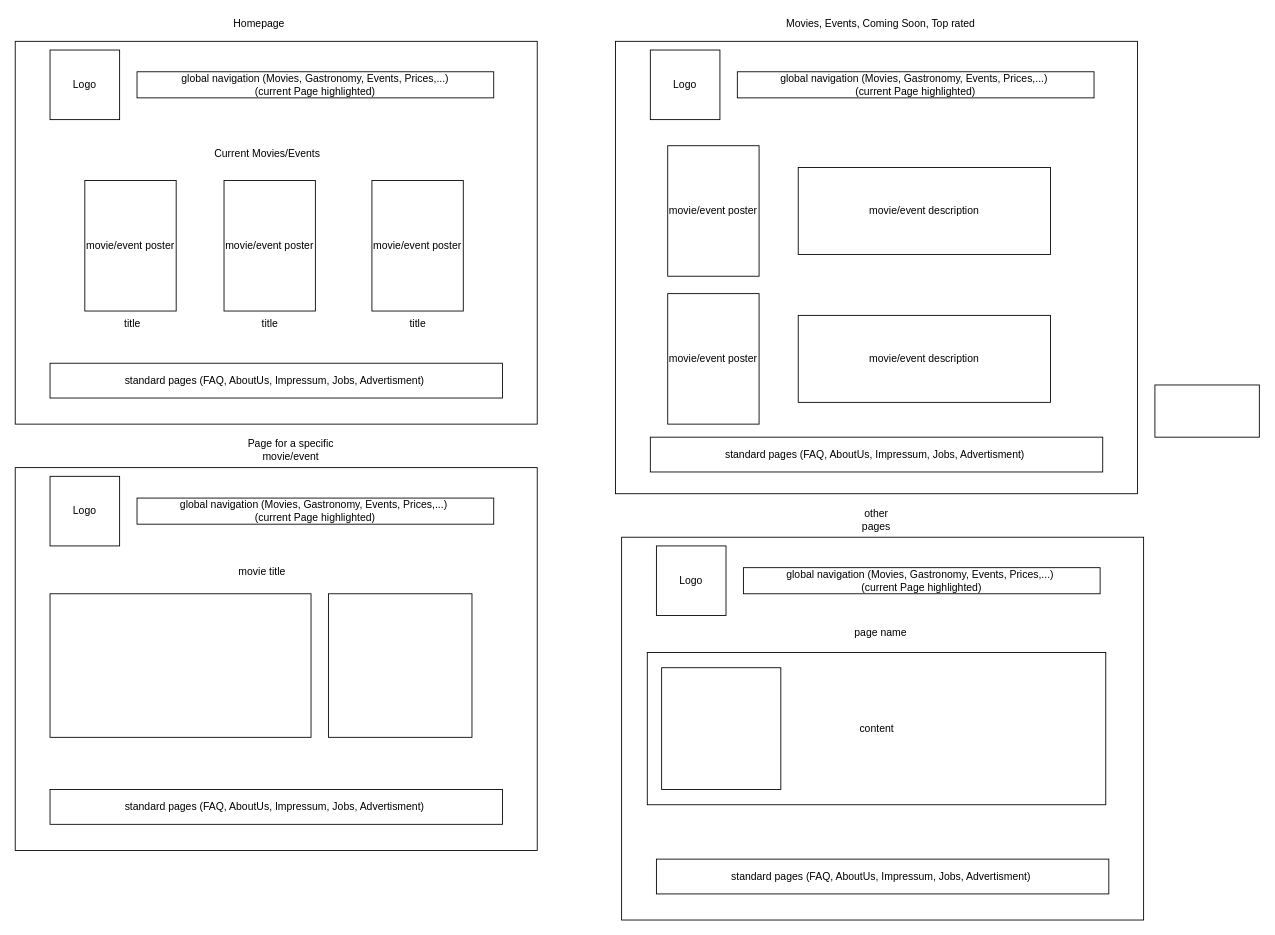
Some shapes in this 1275 by 935 pixel diagram are drawn without their labels. The shapes that lost their labels are listed below. From the top down, each one's box as (x1, y1, x2, y2) in pixels, then its label:
(1154, 384, 1259, 437): more movies/events when scrolling down
(49, 593, 311, 737): trailer
(328, 593, 472, 737): movie description + playtimes
(661, 667, 781, 790): image if provided
